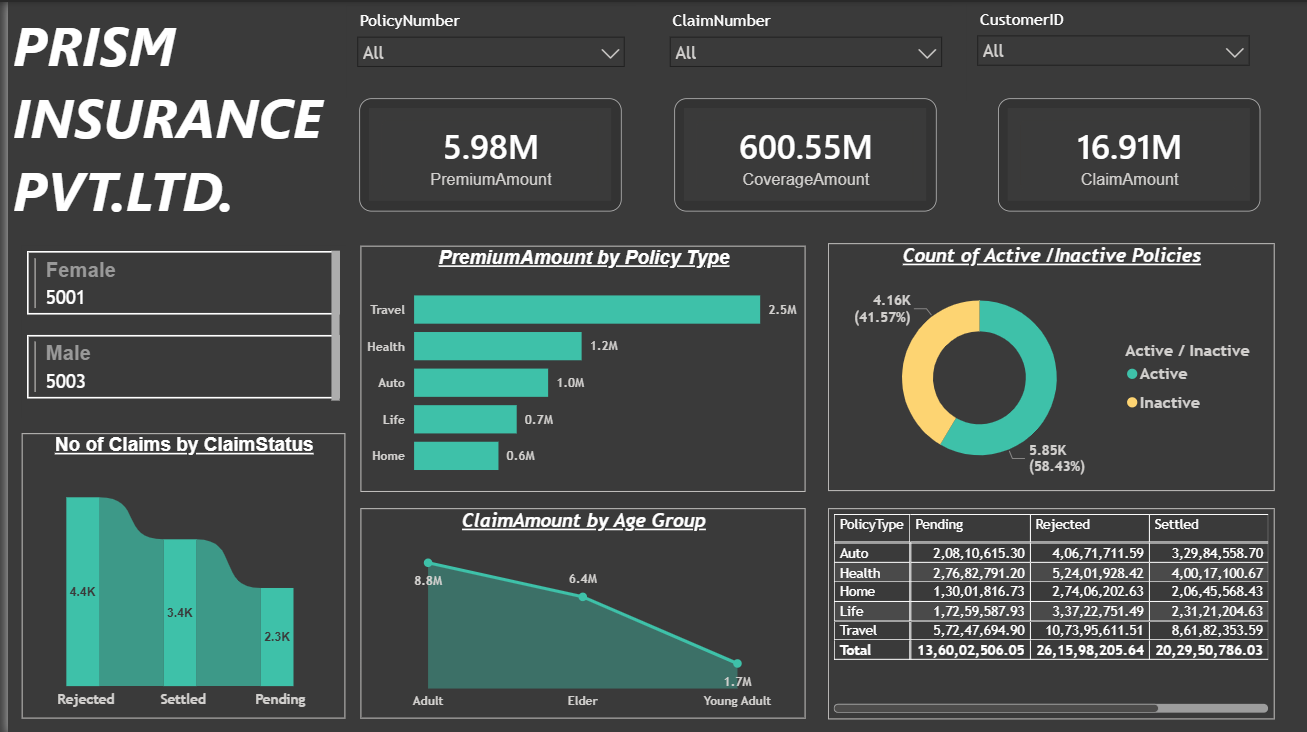

The page's visual inventory and layout, read from the dashboard file:
{"tool":"powerbi","page":{"name":"Page 1","canvas":[1280,720],"ordinal":0},"visuals":[{"type":"slicer","fields":{"Values":["InsuranceData.PolicyNumber"]},"box":[332.4,4.3,283.1,90.1],"z":0},{"type":"slicer","fields":{"Values":["InsuranceData.ClaimNumber"]},"box":[639.1,4.3,287.4,94.4],"z":1000},{"type":"slicer","fields":{"Values":["InsuranceData.CustomerID"]},"box":[941.6,2.1,287.4,94.4],"z":2000},{"type":"textbox","box":[0,0,331.6,301.5],"z":2001},{"type":"cardVisual","fields":{"Data":["Sum(InsuranceData.PremiumAmount)"]},"box":[345.3,94.4,257.4,111.5],"z":2003},{"type":"cardVisual","fields":{"Data":["Sum(InsuranceData.CoverageAmount)"]},"box":[654.2,94.4,257.4,111.5],"z":2004},{"type":"cardVisual","fields":{"Data":["Sum(InsuranceData.ClaimAmount)"]},"box":[971.6,94.4,257.4,111.5],"z":2005},{"type":"multiRowCard","fields":{"Values":["InsuranceData.Gender","CountNonNull(InsuranceData.Gender)"]},"box":[13.3,239.7,317.3,168.7],"z":2006},{"type":"ribbonChart","title":"No of Claims by ClaimStatus","fields":{"Y":["CountNonNull(InsuranceData.ClaimStatus)"],"Category":["InsuranceData.ClaimStatus"]},"box":[13.3,423.9,317.3,279.6],"z":2007},{"type":"barChart","title":"PremiumAmount by Policy Type","fields":{"Category":["InsuranceData.PolicyType"],"Y":["Sum(InsuranceData.PremiumAmount)"]},"box":[346.2,239.7,437.2,241.9],"z":2008},{"type":"lineChart","title":"ClaimAmount by Age Group","fields":{"Category":["InsuranceData.Age Group"],"Y":["Sum(InsuranceData.ClaimAmount)"]},"box":[346.2,497.1,437.2,206.4],"z":2009},{"type":"donutChart","title":"Count of Active /Inactive Policies","fields":{"Category":["InsuranceData.Active / Inactive"],"Y":["CountNonNull(InsuranceData.Active / Inactive)"]},"box":[805.1,237.3,438,243.4],"z":2010},{"type":"pivotTable","fields":{"Values":["Sum(InsuranceData.CoverageAmount)"],"Rows":["InsuranceData.PolicyType"],"Columns":["InsuranceData.ClaimStatus"]},"box":[805.1,496.8,438,206.8],"z":2011}]}

Visuals, with their boxes in screenshot pixels (x1, y1, x2, y2), scaled from the page's 1280x720 canvas onto the 1307x732 screenshot:
slicer - InsuranceData.PolicyNumber: <box>339,4,628,96</box>
slicer - InsuranceData.ClaimNumber: <box>653,4,946,100</box>
slicer - InsuranceData.CustomerID: <box>961,2,1255,98</box>
textbox: <box>0,0,339,307</box>
cardVisual - Sum(InsuranceData.PremiumAmount): <box>353,96,615,209</box>
cardVisual - Sum(InsuranceData.CoverageAmount): <box>668,96,931,209</box>
cardVisual - Sum(InsuranceData.ClaimAmount): <box>992,96,1255,209</box>
multiRowCard - InsuranceData.Gender x CountNonNull(InsuranceData.Gender): <box>14,244,338,415</box>
"No of Claims by ClaimStatus" ribbonChart: <box>14,431,338,715</box>
"PremiumAmount by Policy Type" barChart: <box>354,244,800,490</box>
"ClaimAmount by Age Group" lineChart: <box>354,505,800,715</box>
"Count of Active /Inactive Policies" donutChart: <box>822,241,1269,489</box>
pivotTable - Sum(InsuranceData.CoverageAmount) x InsuranceData.PolicyType: <box>822,505,1269,715</box>
